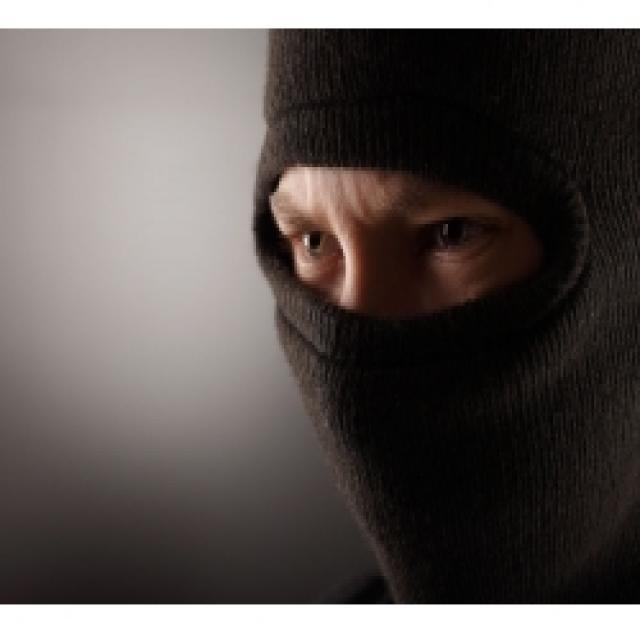nomask: (258, 105, 582, 514)
